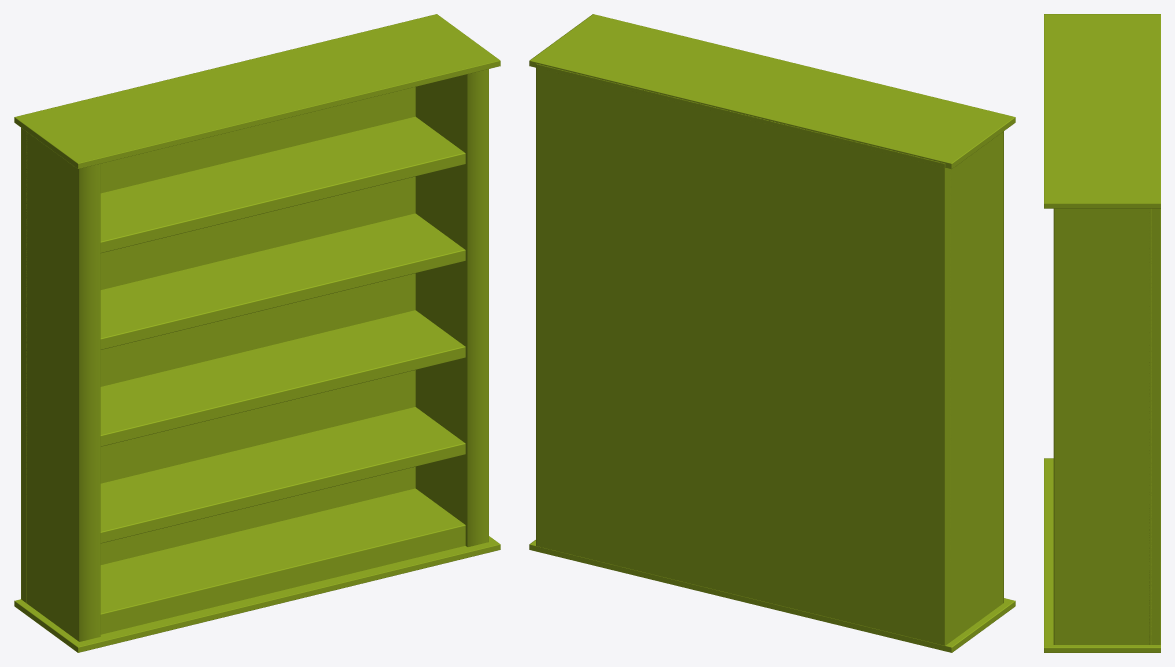
File: cabnet.fbx
3 renders of one model, left to right at view 1: azimuth 30°, elevation 25°; view 2: azimuth 150°, elevation 25°; view 3: azimuth 270°, elevation 25°, orthographic. The views are drawn at different scales.
Parts seen in each view (by area): view 1: cabnet; view 2: cabnet; view 3: cabnet.
Part boxes in pixels (<box>): cabnet: <box>14,14,500,652</box>; cabnet: <box>529,14,1015,652</box>; cabnet: <box>1044,14,1160,652</box>.
Size of the model in its own units: 160 by 177 by 41.75.
